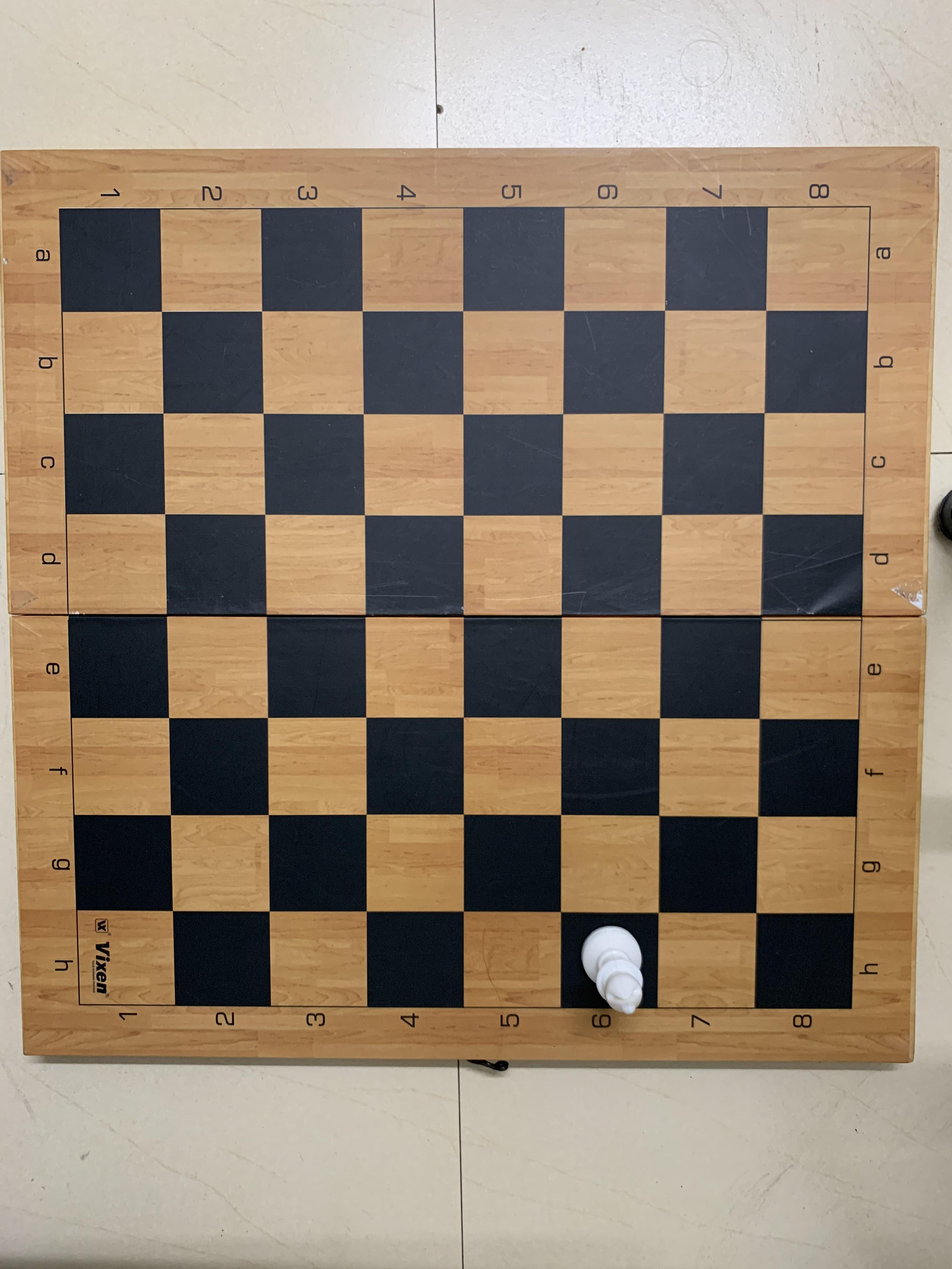white_bishop: (564, 917, 662, 1026)
